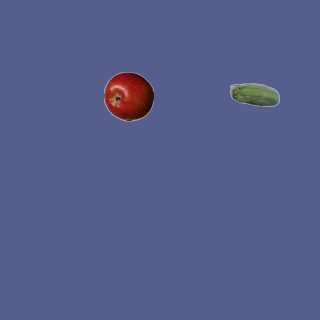Apple Braeburn: (103, 71, 153, 121)
Corn Husk: (229, 71, 279, 121)
